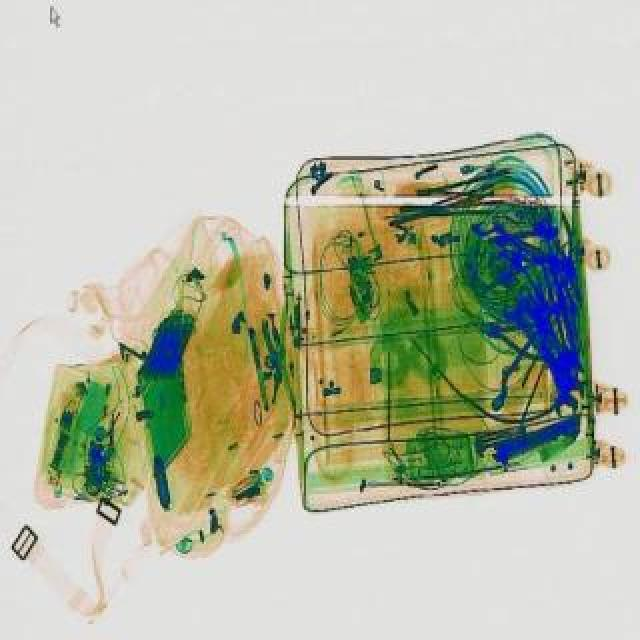scissors: (496, 292, 592, 404), (514, 282, 590, 400), (520, 298, 580, 418)
wrench: (538, 204, 590, 300), (472, 308, 550, 360)
